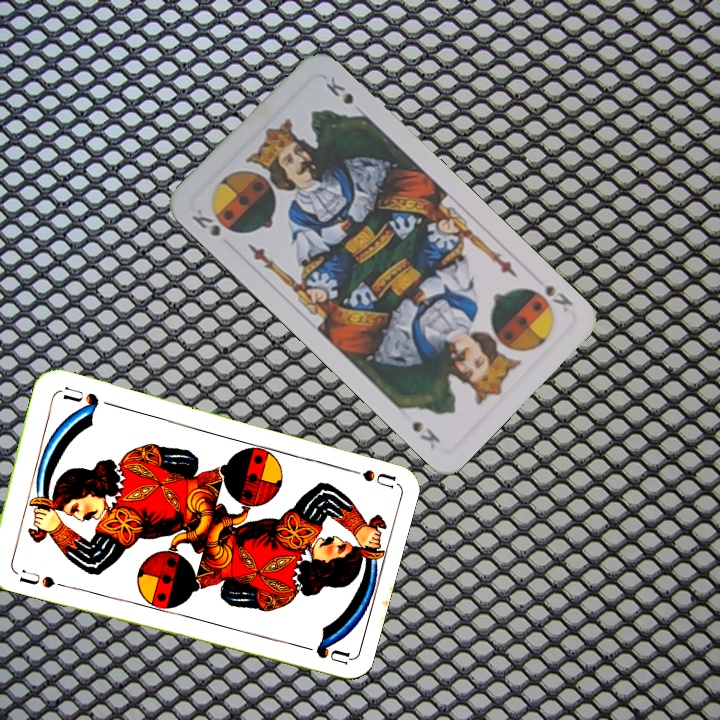SK: (539, 279, 576, 318), (187, 204, 223, 239)
SU: (337, 462, 396, 491), (15, 565, 58, 591)
